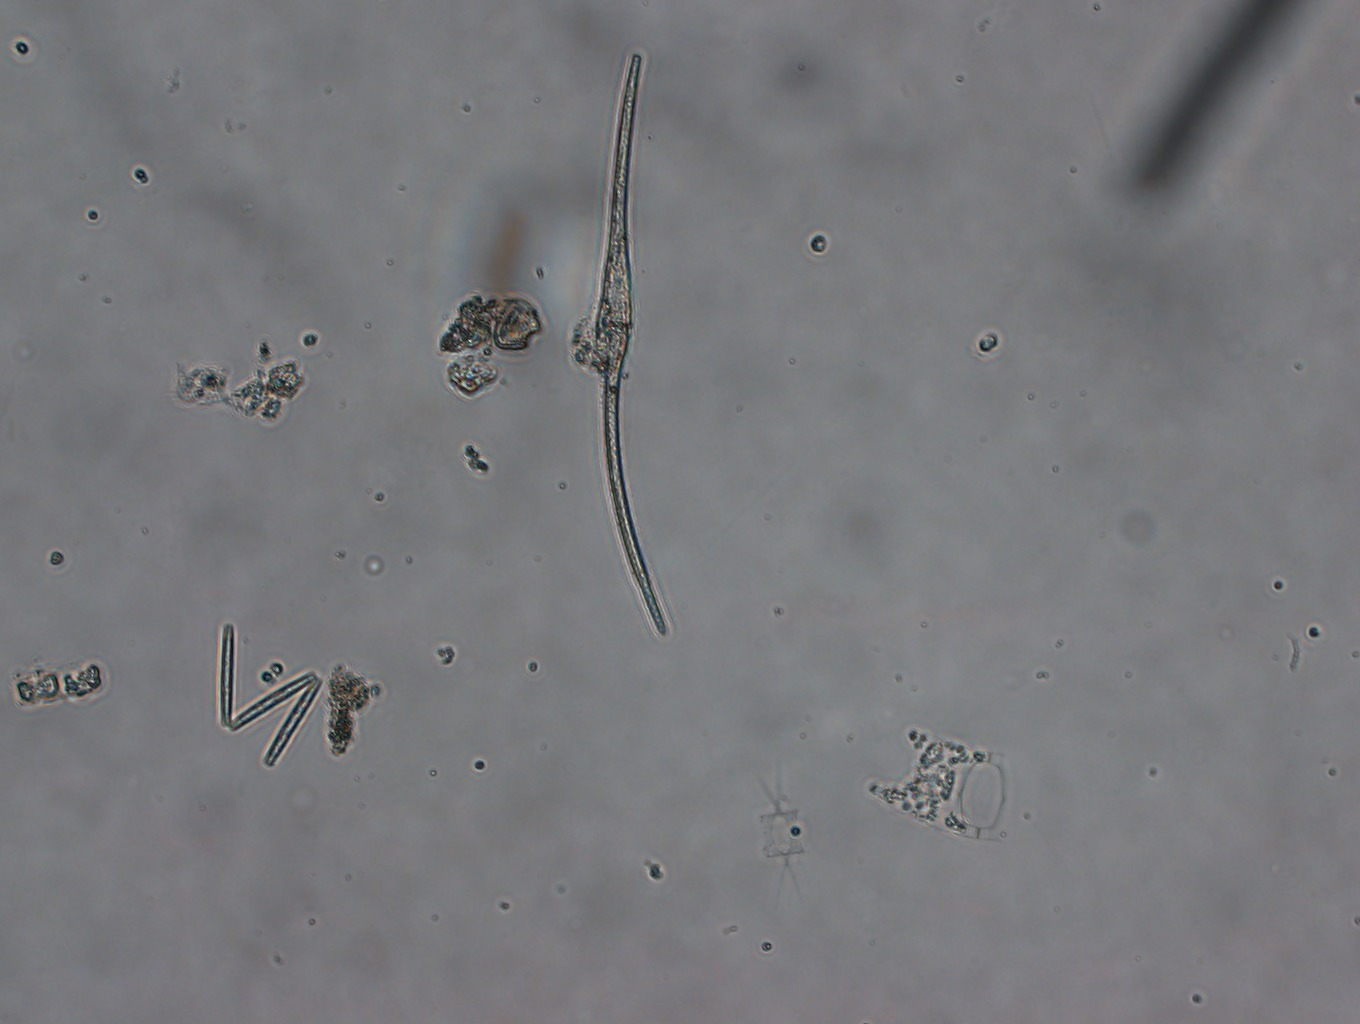ceratium fusus: (571, 53, 671, 642)
chaetoceros: (751, 760, 810, 907)
eucampia: (869, 728, 1010, 842)
thalassionema nitzschioides: (220, 624, 324, 767)
